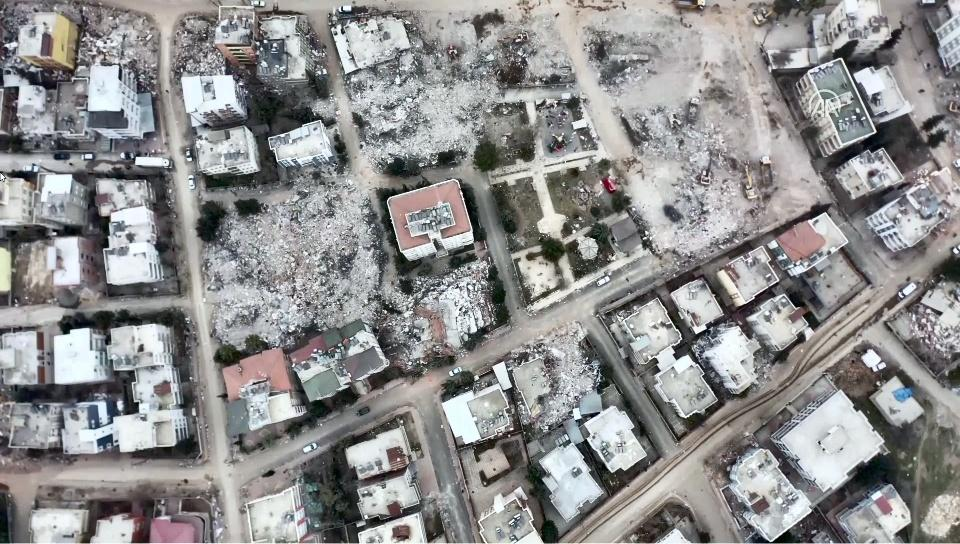kapali: (348, 160, 438, 377), (625, 197, 783, 294)
